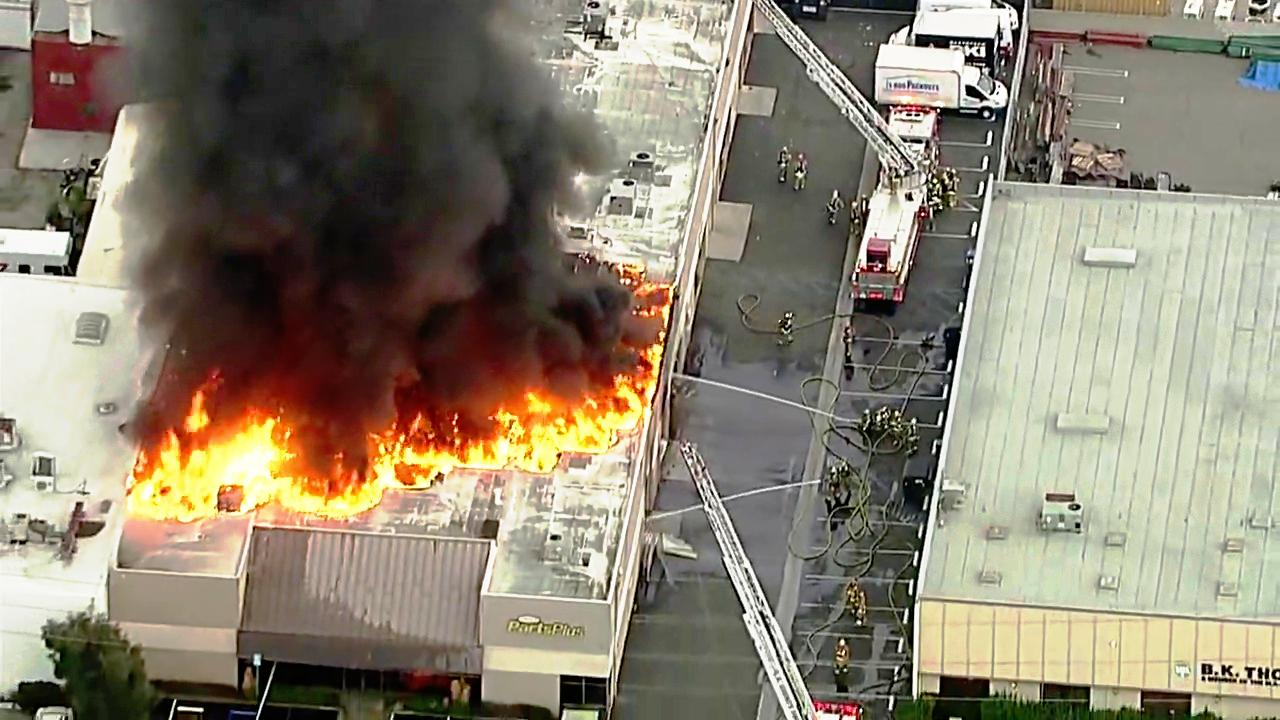fire: (141, 377, 277, 516), (430, 394, 605, 474), (275, 425, 422, 514)
smoke: (170, 0, 582, 373)
